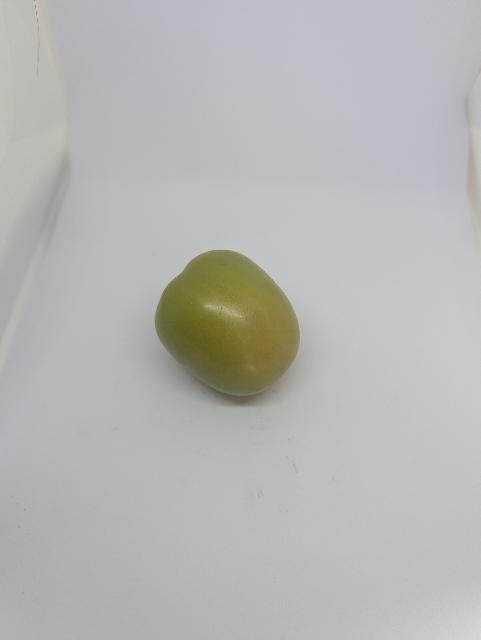green: (147, 244, 322, 407)
